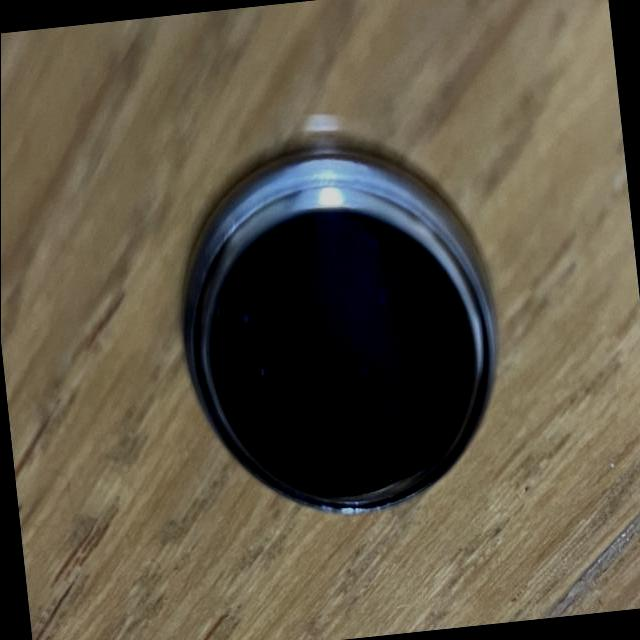COIN: (164, 113, 516, 530)
